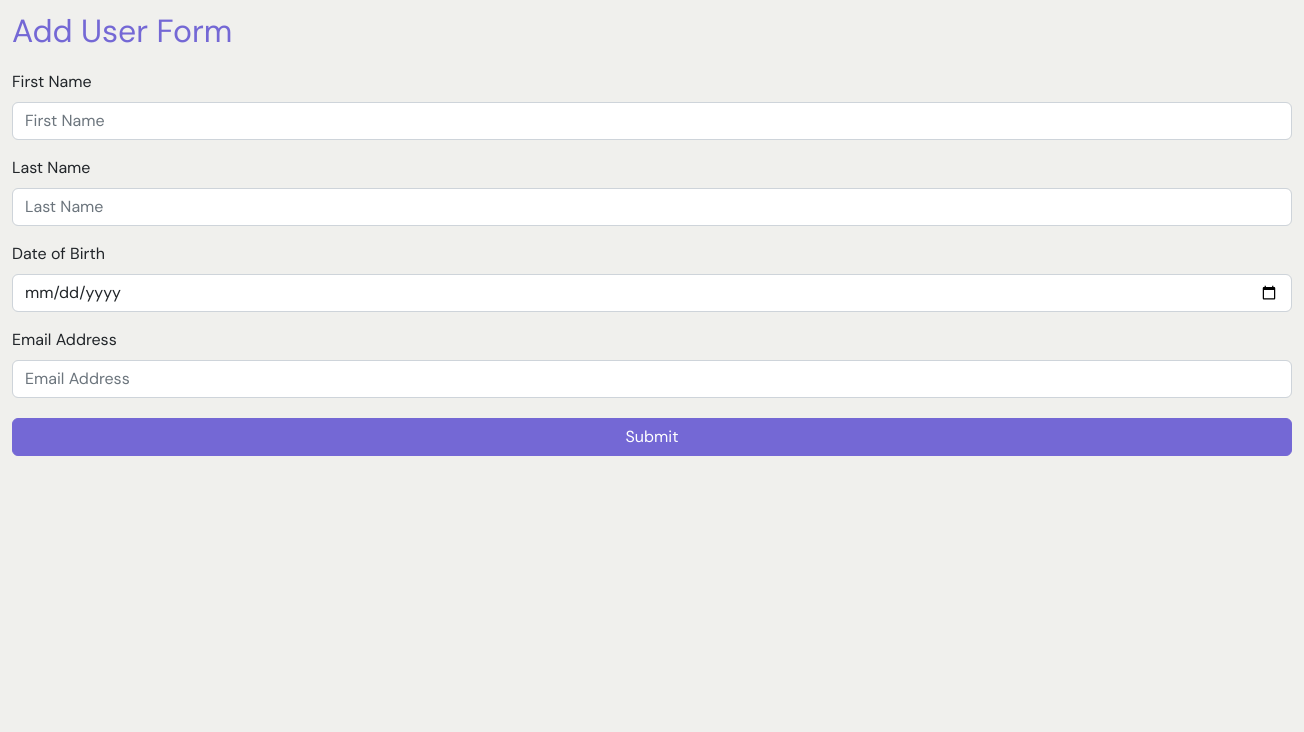
Scenario: UserForm › renders form and submits, expect errors to be displayed for each field
Click the button "Submit": (652, 437) 12,418 -> 1292,456
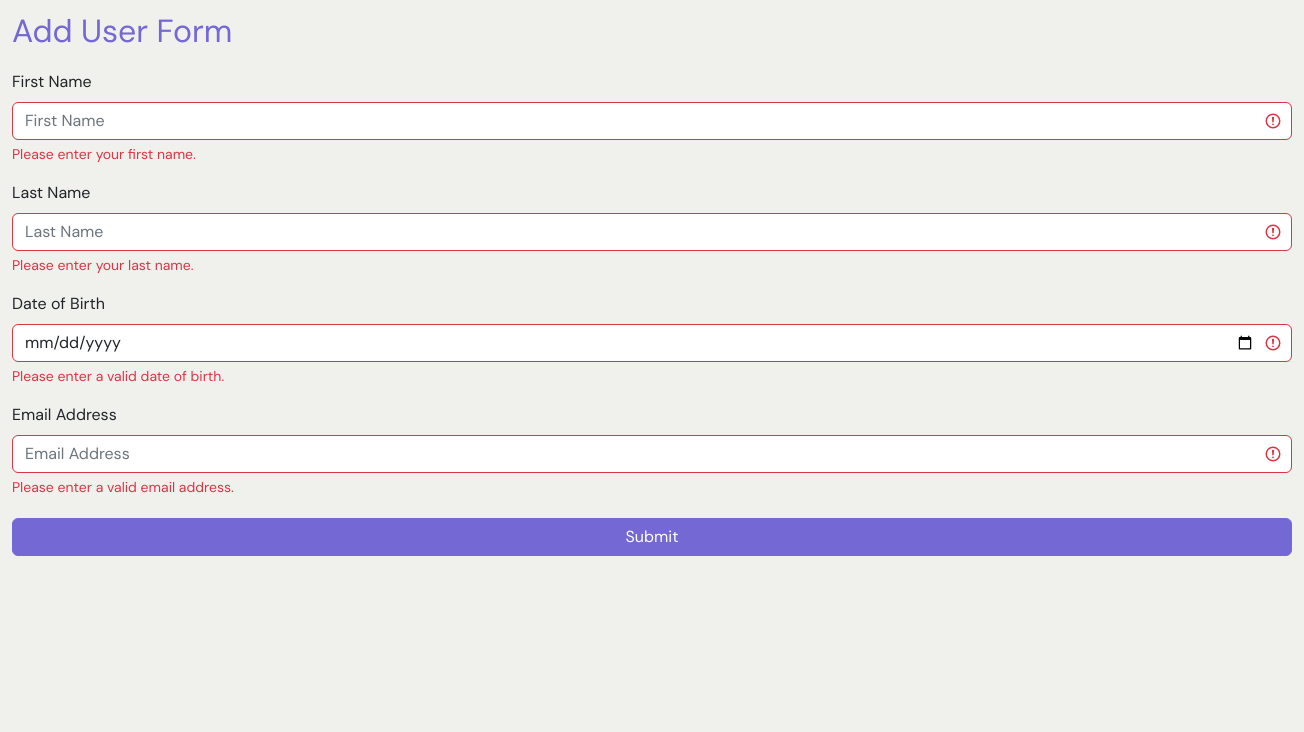
Now the text "Please enter your first name." is shown, box 12,145 -> 196,163
Now the text "Please enter your last name." is shown, box 12,256 -> 194,274
Now the text "Please enter a valid date of birth." is shown, box 12,367 -> 224,385
